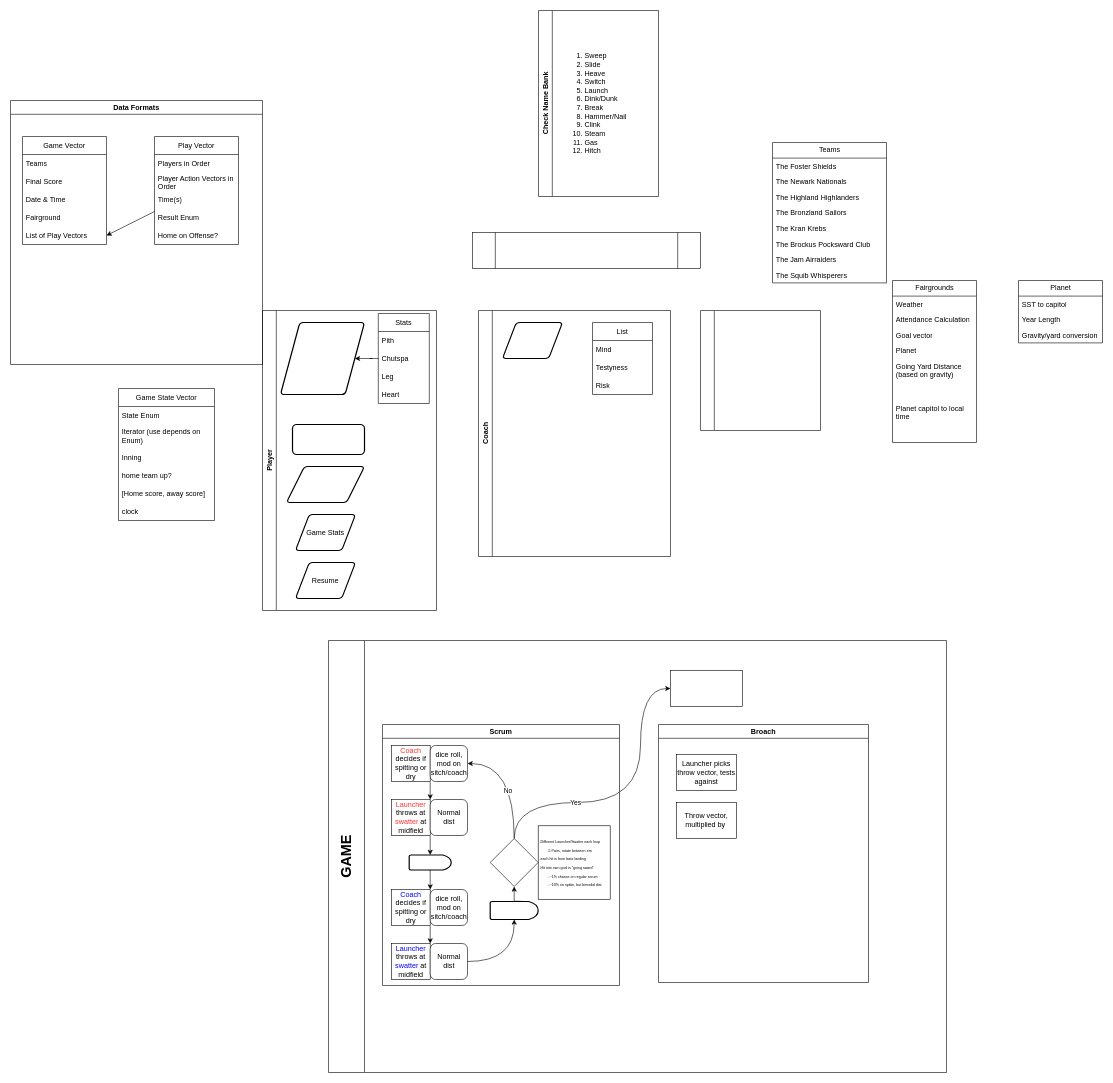
The diagram is 1113 pixels wide and 1083 high, and some of its shapes have lost their labels. Each missing label, with the centre of its shape:
"Coaching Vector" belongs at pixel 532 340.
"Finished 3 Loops?" belongs at pixel 514 862.
"Name, Age, etc." belongs at pixel 325 484.
"Player Vector" belongs at pixel 322 358.
"POCKSWARD" belongs at pixel 586 250.
"Random Side-of-Bed vector" belongs at pixel 328 439.
"Team" belongs at pixel 760 370.
"Winner is Charge Looser is Port" belongs at pixel 706 688.
